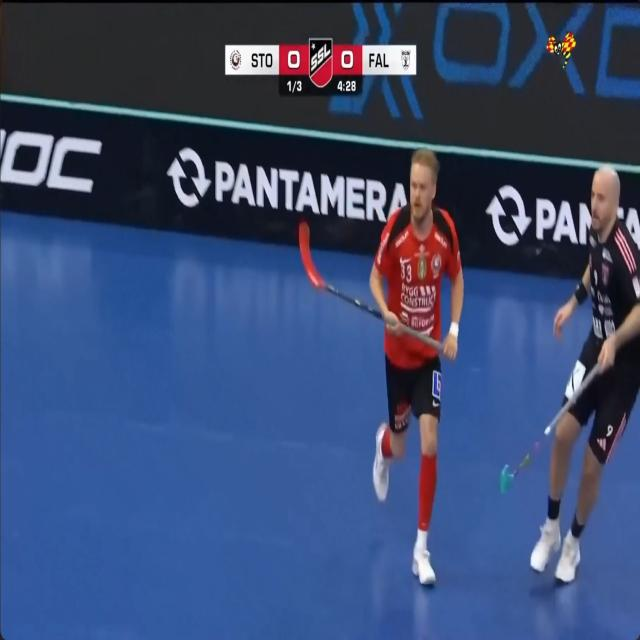player: (530, 166, 640, 582), (370, 149, 464, 583)
stick: (298, 220, 384, 320), (543, 363, 600, 436), (501, 439, 540, 492), (401, 324, 442, 351)
